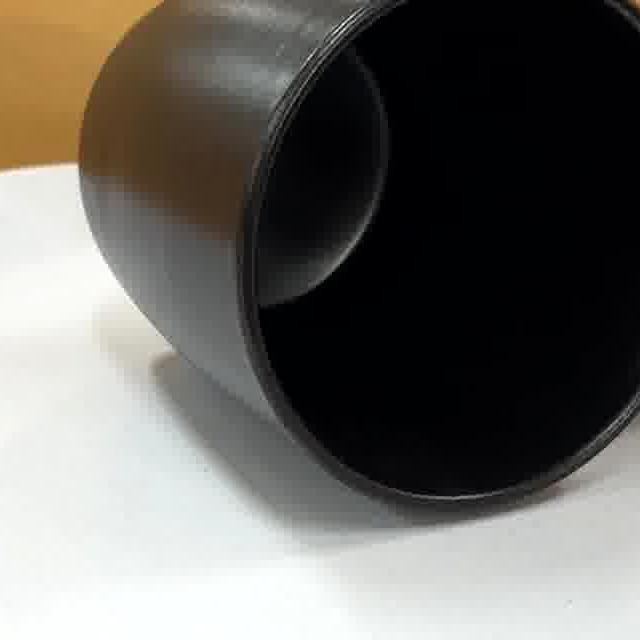cup: (124, 0, 640, 515)
